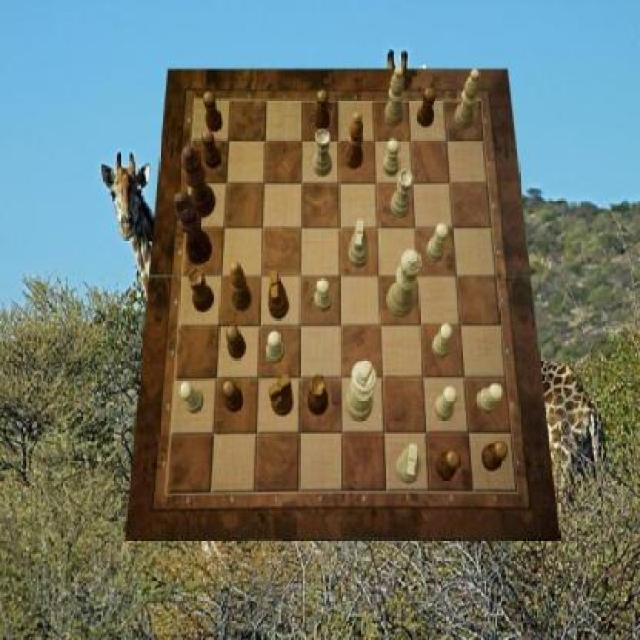bishop: (230, 262, 252, 312), (345, 111, 362, 168)
black-bishop: (174, 190, 213, 264)
black-king: (268, 374, 294, 416), (268, 271, 288, 320)
black-knight: (203, 91, 223, 132), (482, 442, 508, 472), (203, 131, 223, 169), (417, 88, 436, 128), (436, 449, 460, 480), (222, 378, 242, 412), (226, 325, 246, 359), (315, 89, 331, 131)
black-pawn: (181, 144, 217, 218)
black-queen: (188, 268, 214, 312), (308, 374, 328, 416)
black-rook: (455, 69, 480, 129), (386, 65, 406, 126)
white-bishop: (345, 358, 377, 421)
white-king: (348, 220, 368, 269), (396, 444, 420, 484)
white-knight: (426, 223, 449, 262), (477, 383, 504, 414), (180, 381, 205, 414), (434, 386, 457, 421), (432, 324, 452, 360), (266, 330, 286, 364), (383, 138, 400, 177), (314, 280, 331, 312)
white-pawn: (386, 251, 422, 318)
white-queen: (391, 170, 414, 218), (312, 129, 332, 177)
